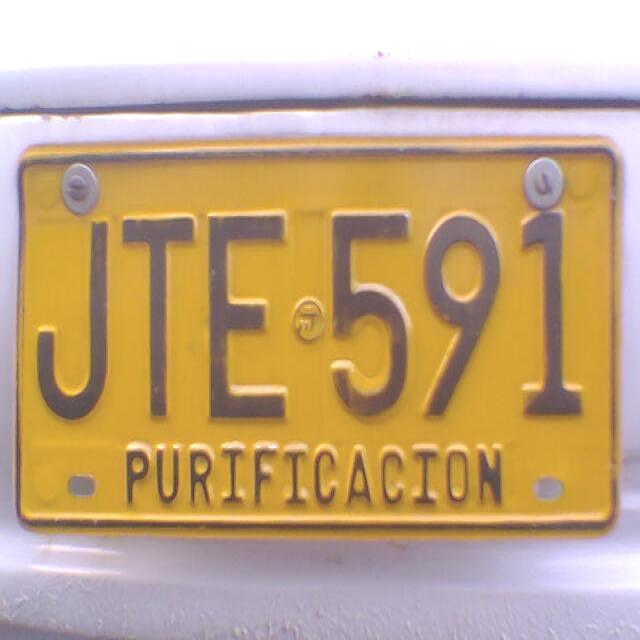placa: (10, 132, 627, 548)
